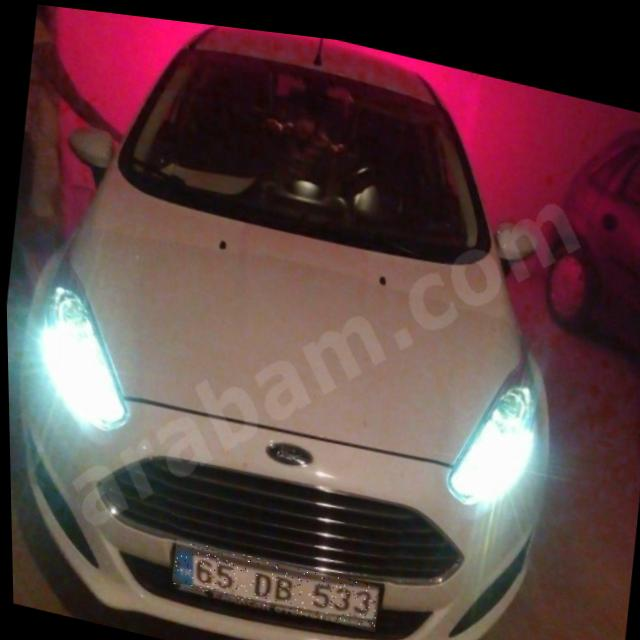license_plate: (168, 533, 377, 624)
